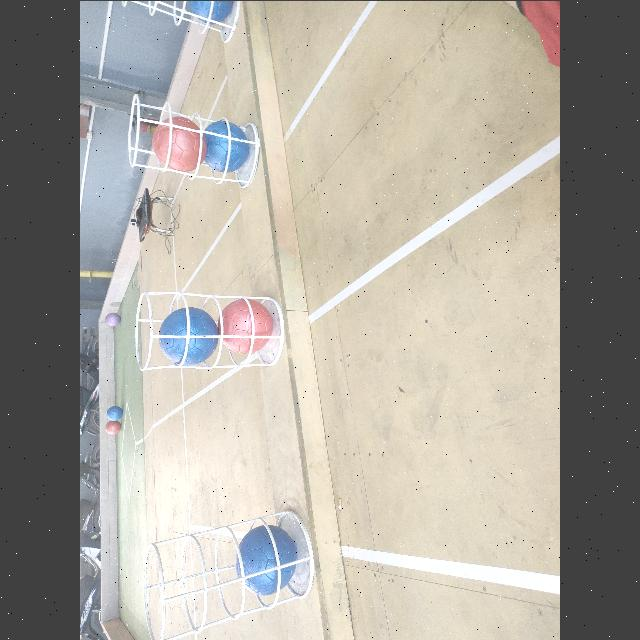B: (235, 522, 297, 594), (158, 307, 218, 365), (201, 120, 249, 172), (186, 0, 232, 24), (106, 406, 124, 420)
R: (152, 116, 208, 170), (218, 298, 272, 352), (105, 420, 121, 432)
